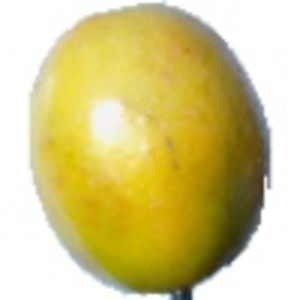maracujá: (26, 1, 273, 300)
